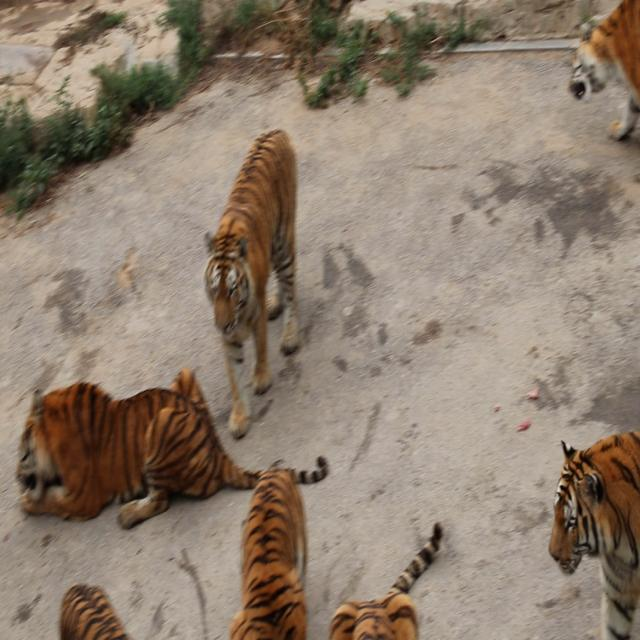Tiger: (10, 380, 329, 526), (198, 111, 331, 438), (548, 429, 640, 636), (327, 516, 445, 640), (232, 463, 308, 640), (564, 3, 640, 143), (56, 572, 136, 639)
